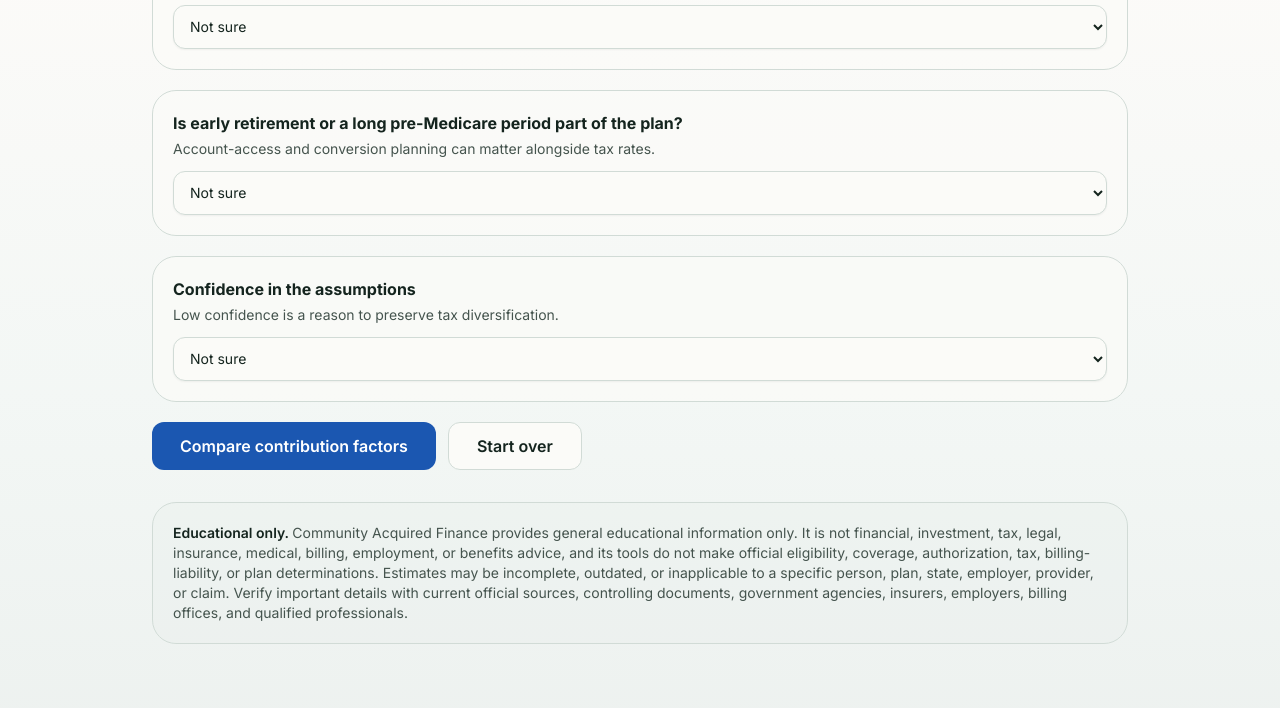
Test: comprehensive roadmap journeys › defaults the Roth comparison to a split when assumptions are uncertain
(page scrolled)
What coordinates should you click on to do the following:
click the button "Compare contribution factors"
I would click on:
 (294, 446)
Its box is [152, 422, 436, 470].
(page scrolled)
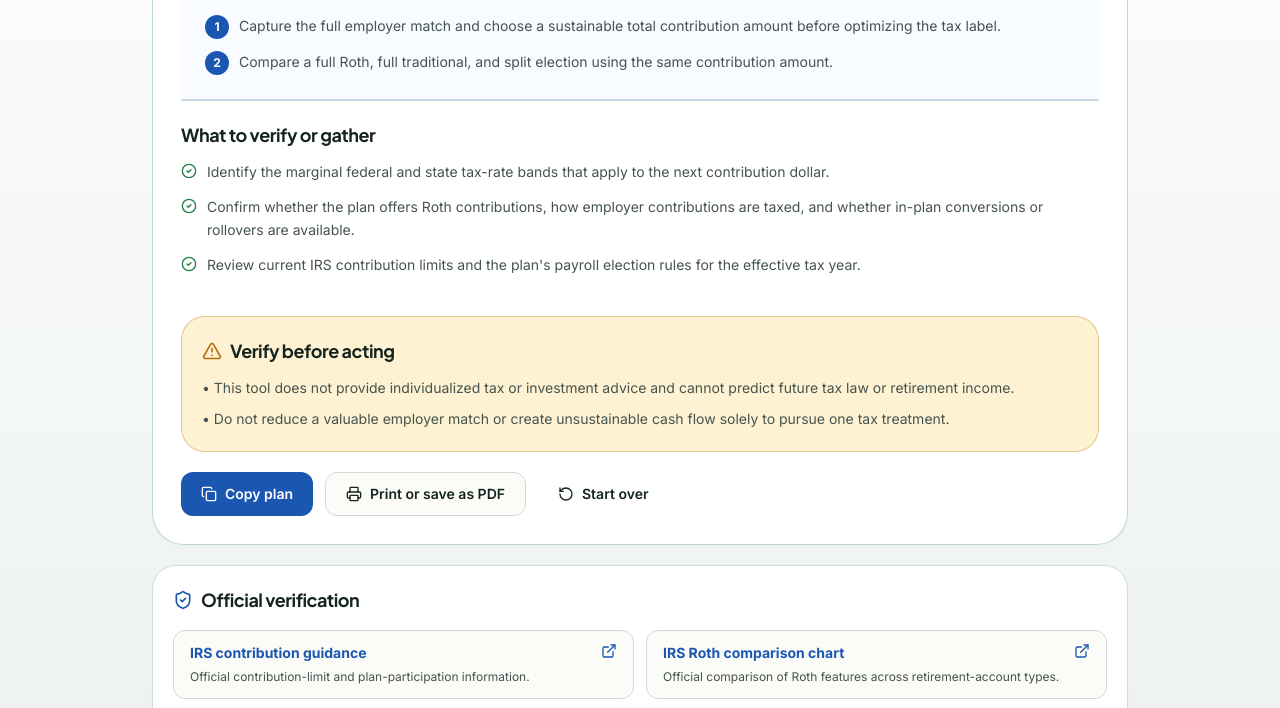
expect the list item "does not provide individualized tax or investment advice" is shown: met, box [214, 379, 1014, 396]
